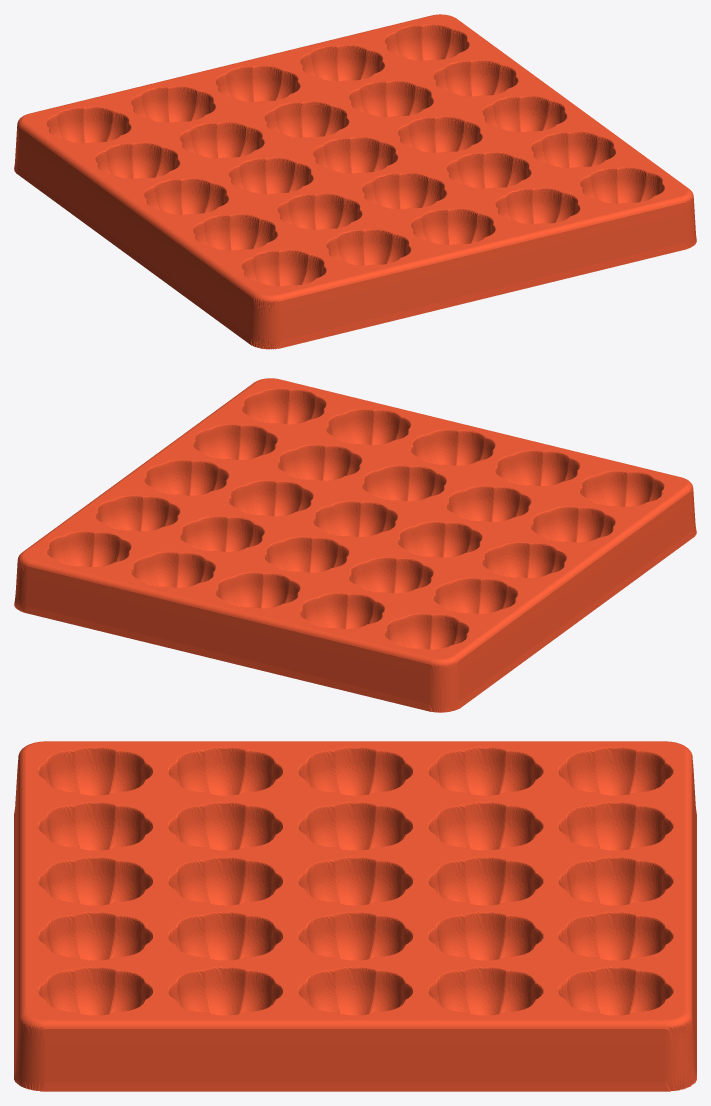
Rendered from mold.glb.
3 views of the same model, one above another, from view 1: azimuth 30°, elevation 25°; view 2: azimuth 150°, elevation 25°; view 3: azimuth 270°, elevation 25° (orthographic). The views are drawn at different scales.
Visible parts, largest first — view 1: geometry_0; view 2: geometry_0; view 3: geometry_0.
Part boxes in pixels (box(x1,y1,x2,y2)): geometry_0: box(14, 14, 696, 349); geometry_0: box(14, 378, 696, 712); geometry_0: box(14, 741, 696, 1091).
Bounding box in the file's own units: 0.193 × 0.0207 × 0.193.
